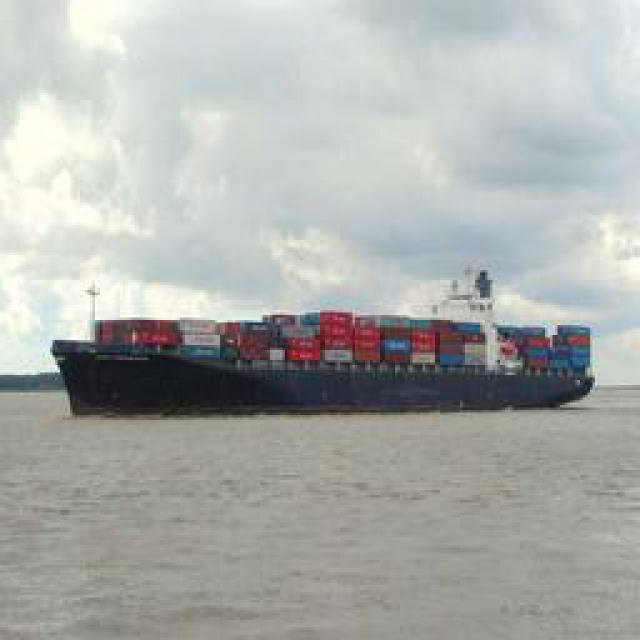Ship: (46, 269, 599, 419)
